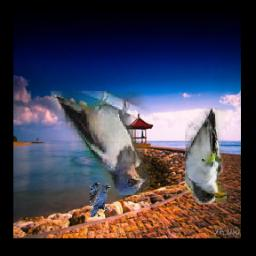Crow: (89, 184, 111, 218)
Cuckoo: (184, 109, 226, 205)
Swallow: (51, 91, 150, 195)
